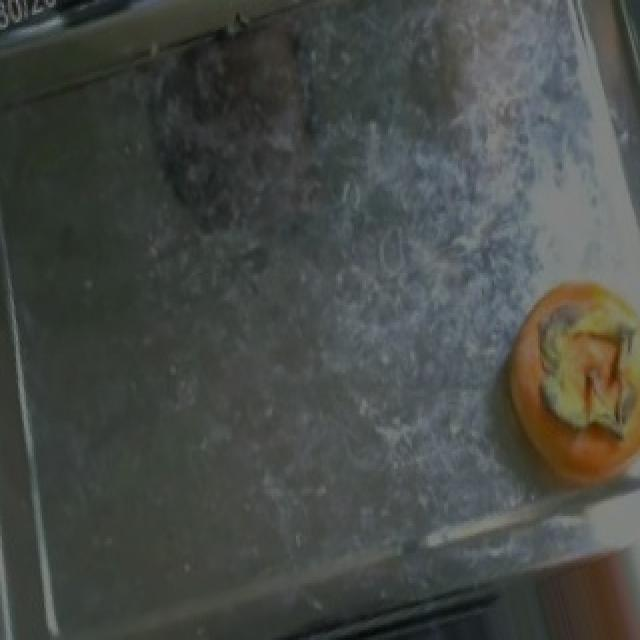Fruit: (484, 258, 640, 516)
